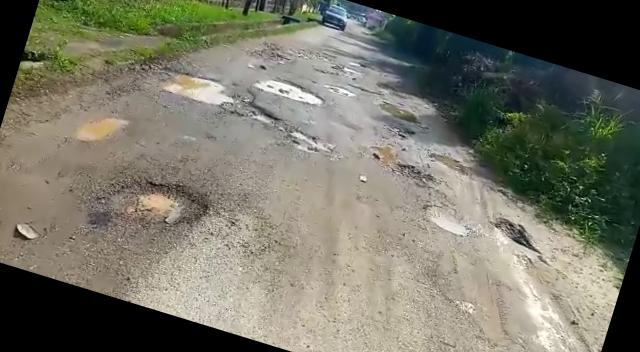pothole: (114, 169, 215, 242), (259, 112, 341, 160), (160, 66, 240, 113), (250, 70, 330, 109), (419, 203, 478, 239), (324, 80, 360, 98)
